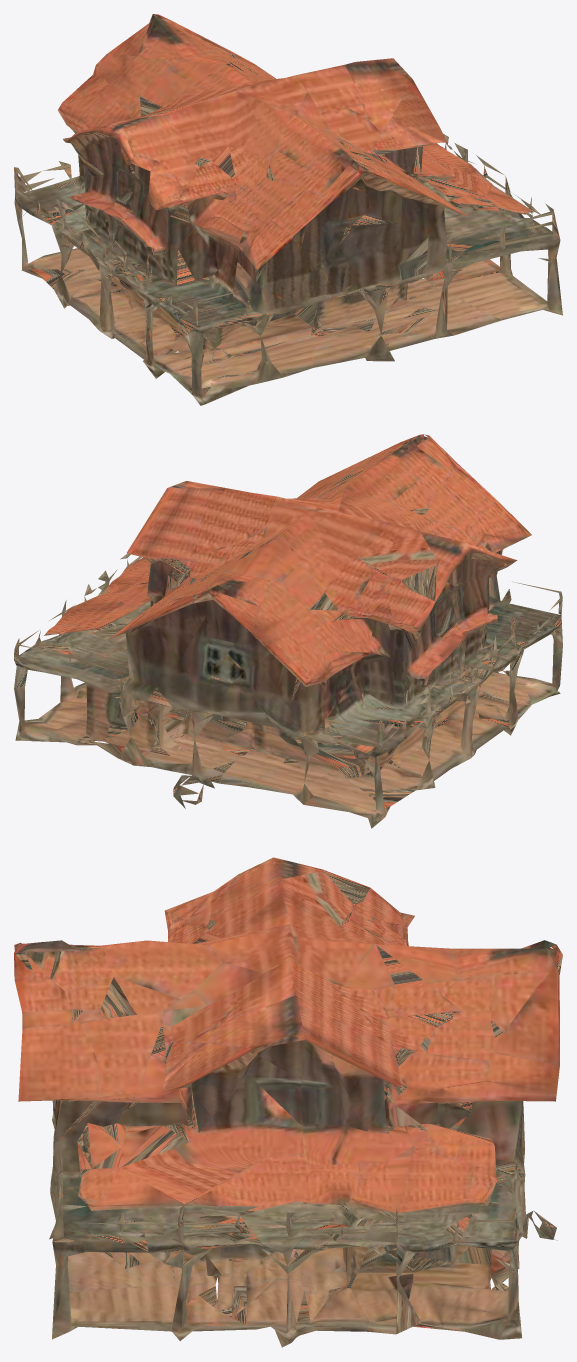
Rendered from bq_rural_house.far.glb.
3 renders of one model, top to bottom at view 1: azimuth 30°, elevation 25°; view 2: azimuth 150°, elevation 25°; view 3: azimuth 270°, elevation 25°, orthographic. The views are drawn at different scales.
Parts seen in each view (by area): view 1: mesh_node; view 2: mesh_node; view 3: mesh_node.
Boxes of the visible parts, x1=… form: mesh_node: x1=14, y1=14, x2=562, y2=405; mesh_node: x1=14, y1=434, x2=562, y2=828; mesh_node: x1=14, y1=857, x2=562, y2=1347.
Size of the model in its own units: 1.88 by 1.1 by 1.89.
Materials: 1 (1 with a texture image).
